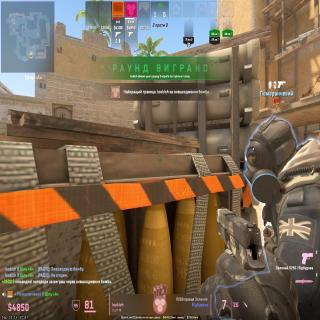CT-Body: (244, 116, 320, 320)
CT-Head: (244, 115, 296, 204)
